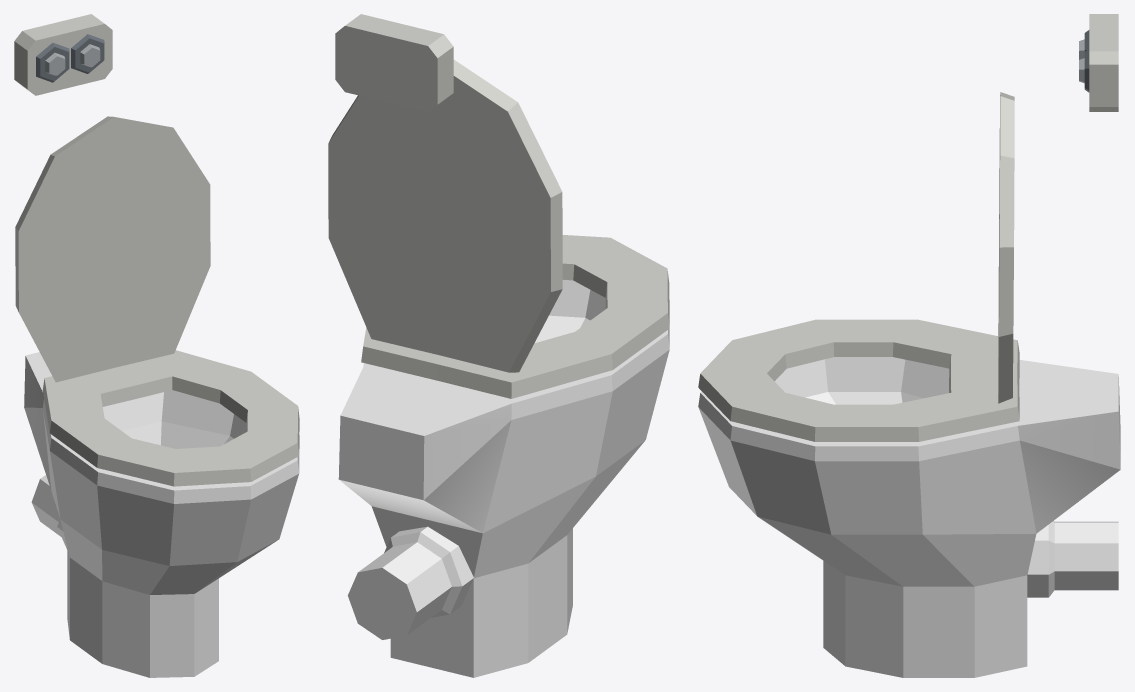
File: Toilet_01.FBX
The picture shows the model from 3 angles, left to right: view 1: azimuth 30°, elevation 25°; view 2: azimuth 150°, elevation 25°; view 3: azimuth 270°, elevation 25°; orthographic projection. The views are drawn at different scales.
Parts seen in each view (by area): view 1: Toilet_01; view 2: Toilet_01; view 3: Toilet_01.
Part boxes in pixels (<box>): Toilet_01: <box>14,14,299,677</box>; Toilet_01: <box>328,14,669,677</box>; Toilet_01: <box>698,14,1120,677</box>.
Bounding box in the file's own units: 43.61 × 115 × 71.58.
